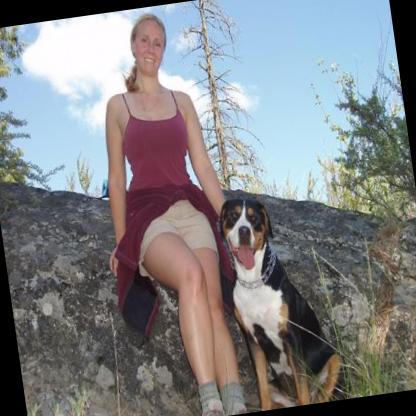Greater_Swiss_Mountain_dog: (213, 184, 346, 410)
